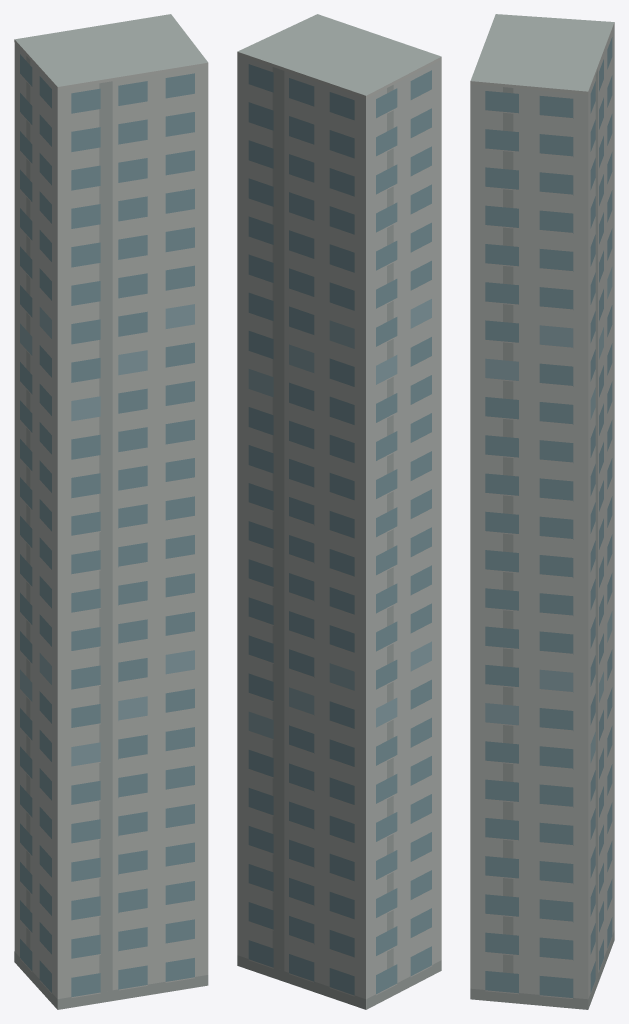
Rendered from survey-upis-32824996.glb.
3 renders of one model, left to right at view 1: azimuth 30°, elevation 25°; view 2: azimuth 150°, elevation 25°; view 3: azimuth 270°, elevation 25°, orthographic.
Parts seen in each view (by area): view 1: survey-upis-32824996.tmp; view 2: survey-upis-32824996.tmp; view 3: survey-upis-32824996.tmp.
Part boxes in pixels (x1,y1,x2,y2): survey-upis-32824996.tmp: [14, 14, 208, 1009]; survey-upis-32824996.tmp: [237, 14, 441, 1009]; survey-upis-32824996.tmp: [470, 14, 614, 1009].
Bounding box in the file's own units: 13.28 × 73.2 × 10.42.
